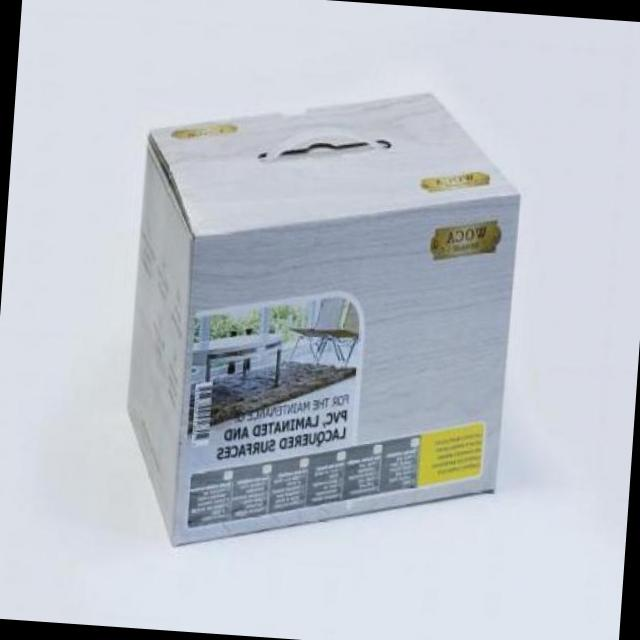box: (102, 51, 534, 585)
